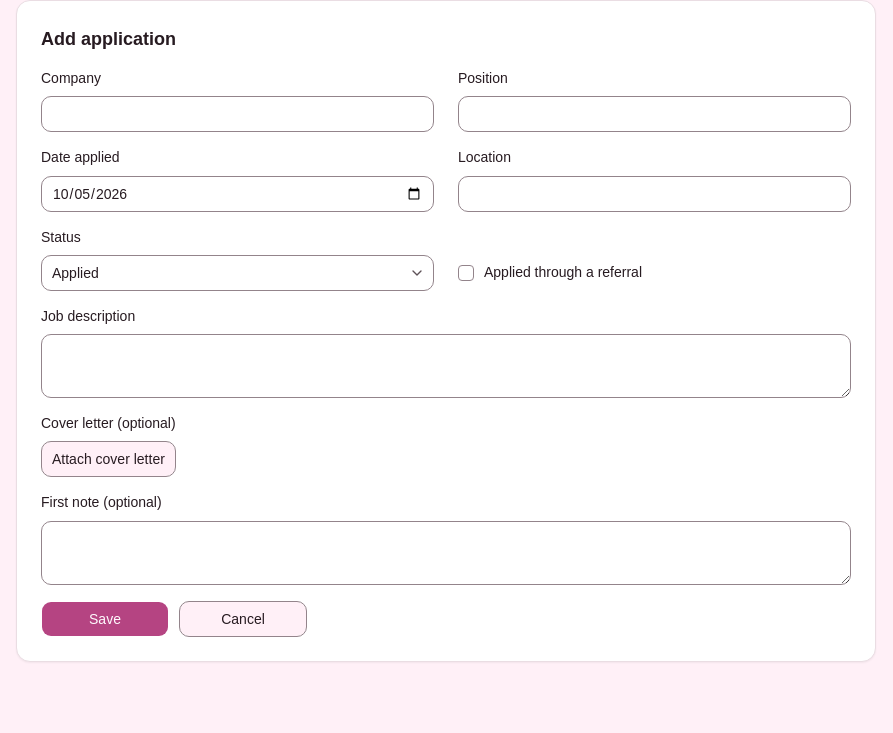
Test: AddApplicationScreen › shows the SPEC copy once for the two required fields, and writes nothing
Click the button "Save" at (105, 618), box [41,600,169,636]
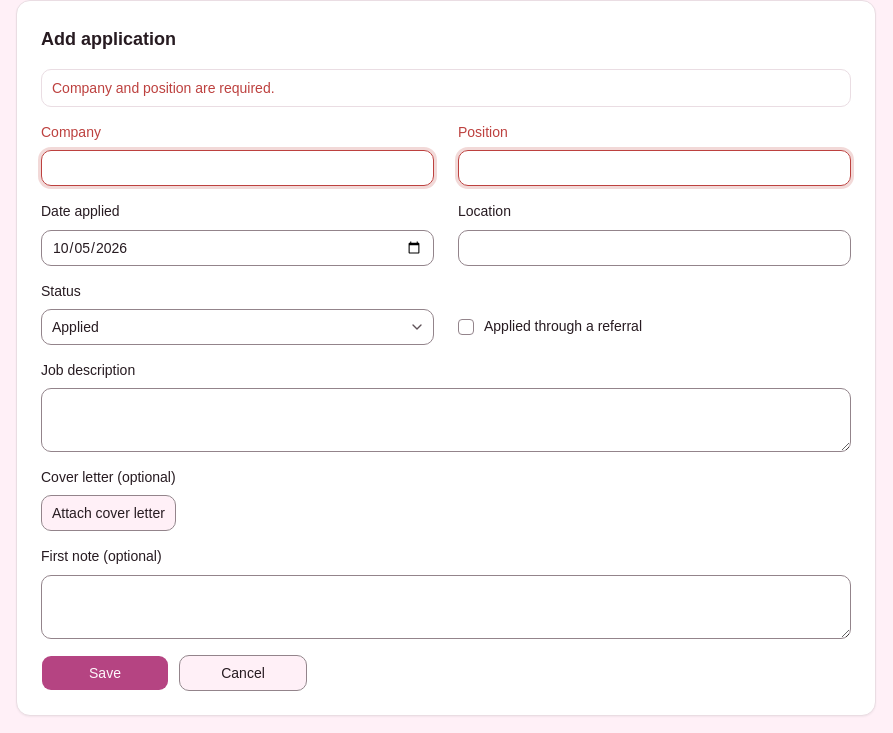
Check: the message reads "Company and position are required.", box [52,80,275,96]
Check: the text "Company and position are required." is shown once, box [52,80,275,96]
